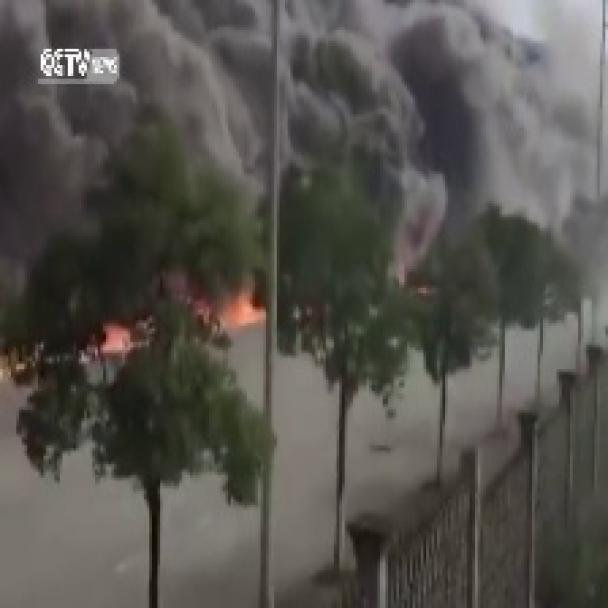smoke: (0, 0, 606, 470)
